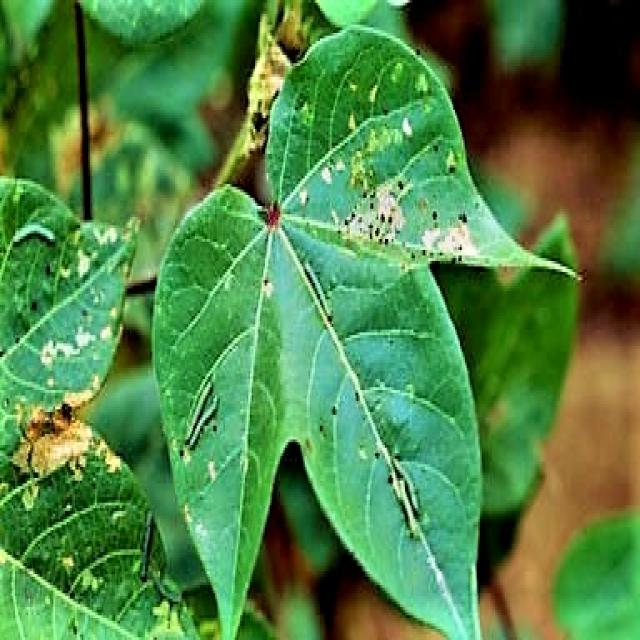armyworm: (181, 380, 228, 456)
